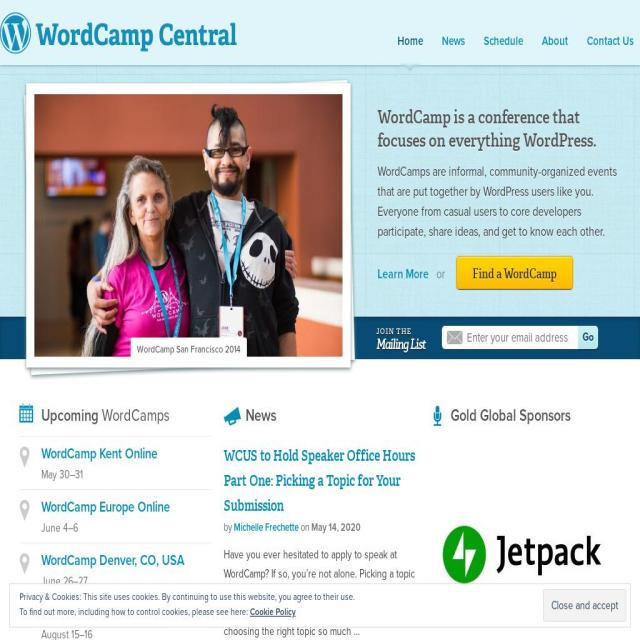button: (19, 498, 211, 538), (19, 445, 211, 484), (19, 552, 211, 590), (19, 605, 211, 640), (456, 256, 573, 289), (580, 24, 640, 73), (478, 25, 530, 73), (536, 25, 574, 73), (392, 25, 429, 73), (436, 25, 471, 73)
field: (442, 326, 598, 349), (543, 589, 626, 622), (578, 326, 598, 349)
heading: (224, 446, 416, 516), (378, 106, 620, 152), (0, 13, 239, 55), (451, 406, 571, 426), (99, 406, 170, 426), (41, 406, 98, 426), (376, 337, 425, 353), (246, 406, 276, 426), (376, 325, 412, 337)
image: (27, 83, 334, 346), (429, 443, 617, 640)
link: (41, 445, 211, 463), (41, 498, 211, 516), (41, 605, 211, 623), (41, 552, 211, 569), (234, 521, 299, 534), (378, 266, 428, 282), (250, 606, 296, 617)
text: (378, 162, 620, 242), (224, 545, 416, 640), (19, 591, 355, 602), (130, 337, 247, 361), (19, 606, 250, 617), (40, 627, 92, 640), (41, 574, 88, 588), (311, 521, 361, 534), (41, 468, 83, 482), (41, 521, 78, 535), (433, 266, 448, 282), (299, 521, 312, 534), (224, 521, 234, 534)
